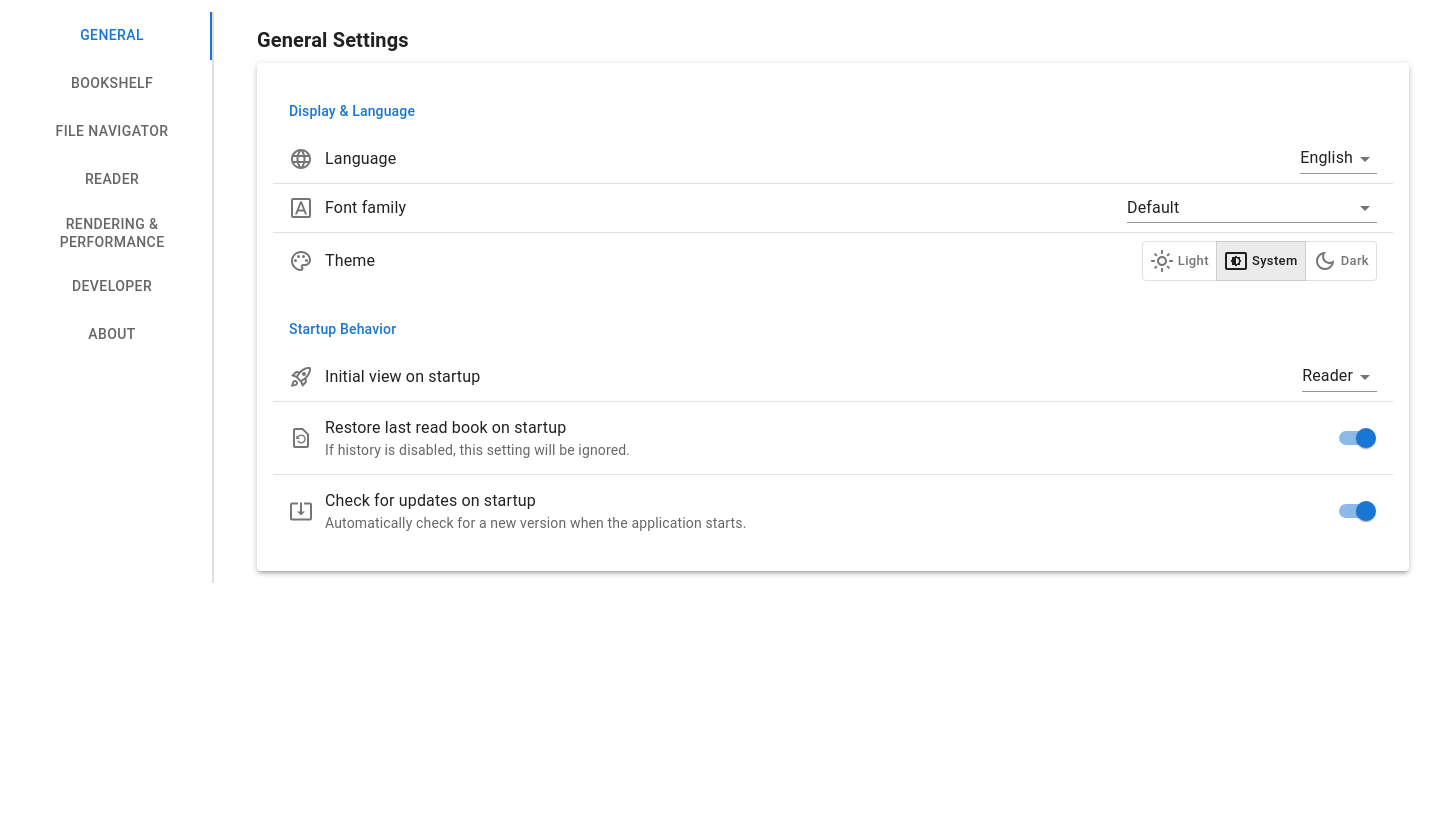
Test: SettingsView › should switch content when a tab is clicked
This screenshot has width=1452, height=822.
Expected: the heading "General Settings" is shown, [257,28,409,52]
Note: Click on Developer tab
Click the tab "Developer": (112, 287) [12,263,212,311]
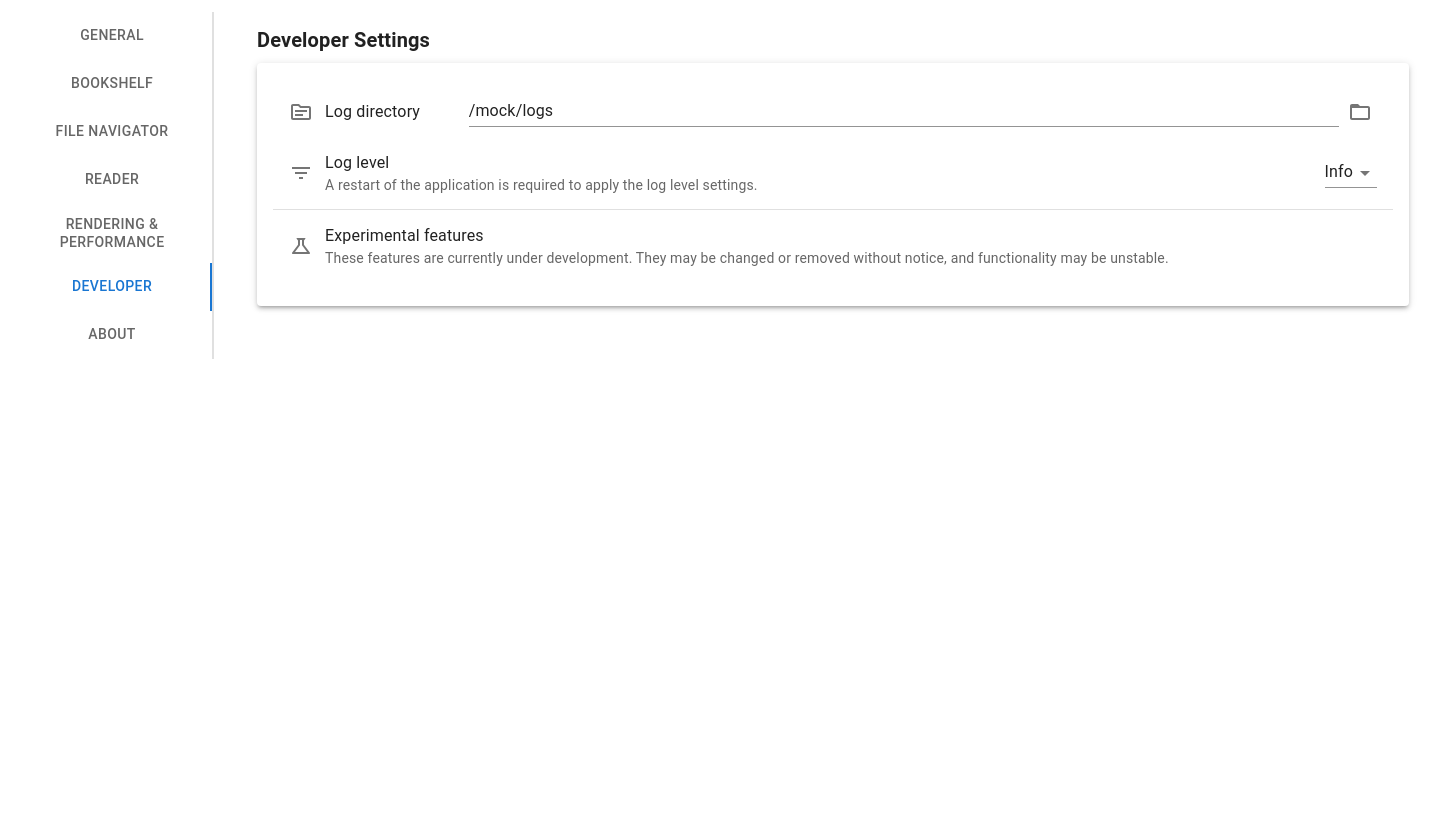
Result: the heading "Developer Settings" is shown at [257,28,430,52]
